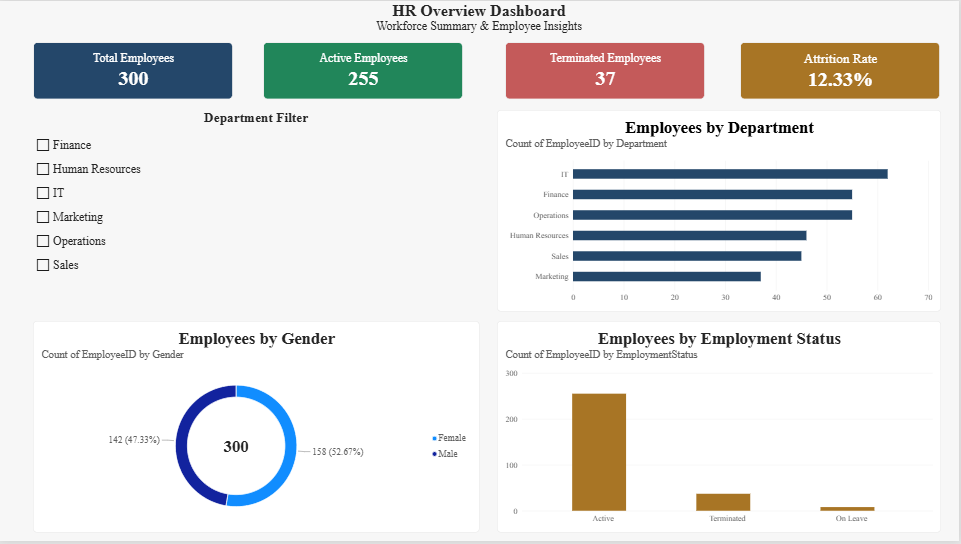

The page's visual inventory and layout, read from the dashboard file:
{"tool":"powerbi","page":{"name":"HR Overview","canvas":[1920,1080],"ordinal":0},"visuals":[{"type":"cardVisual","fields":{"Data":["Employees.Total Employees"]},"box":[67.5,82.5,400,115],"z":0},{"type":"cardVisual","fields":{"Data":["Employees.Active Employees"]},"box":[527.5,82.5,400,115],"z":1000},{"type":"cardVisual","fields":{"Data":["Employees.Terminated Employees"]},"box":[1012.5,82.5,400,115],"z":2000},{"type":"cardVisual","fields":{"Data":["Employees.Attrition Rate"]},"box":[1482.5,82.5,400,115],"z":3000},{"type":"clusteredBarChart","title":"Employees by Department","fields":{"Category":["Employees.Department"],"Y":["CountNonNull(Employees.EmployeeID)"]},"box":[995,217.5,887.5,402.5],"z":4000},{"type":"textbox","box":[0,0,1920,82.5],"z":5000},{"type":"donutChart","title":"Employees by Gender","fields":{"Category":["Employees.Gender"],"Y":["CountNonNull(Employees.EmployeeID)"]},"box":[67.5,640,892.5,422.5],"z":6000},{"type":"clusteredColumnChart","title":"Employees by Employment Status","fields":{"Category":["Employees.EmploymentStatus"],"Y":["CountNonNull(Employees.EmployeeID)"]},"box":[995,640,887.5,422.5],"z":7000},{"type":"slicer","title":"Department Filter","fields":{"Values":["Employees.Department"]},"box":[67.5,217.5,892.5,402.5],"z":8000}]}

Visuals, with their boxes in screenshot pixels (x1, y1, x2, y2), scaled from the page's 1920x1080 canvas onto the 961x544 screenshot:
cardVisual - Employees.Total Employees: 34, 42, 234, 99
cardVisual - Employees.Active Employees: 264, 42, 464, 99
cardVisual - Employees.Terminated Employees: 507, 42, 707, 99
cardVisual - Employees.Attrition Rate: 742, 42, 942, 99
"Employees by Department" clusteredBarChart: 498, 110, 942, 312
textbox: 0, 0, 960, 42
"Employees by Gender" donutChart: 34, 322, 480, 535
"Employees by Employment Status" clusteredColumnChart: 498, 322, 942, 535
"Department Filter" slicer: 34, 110, 480, 312
